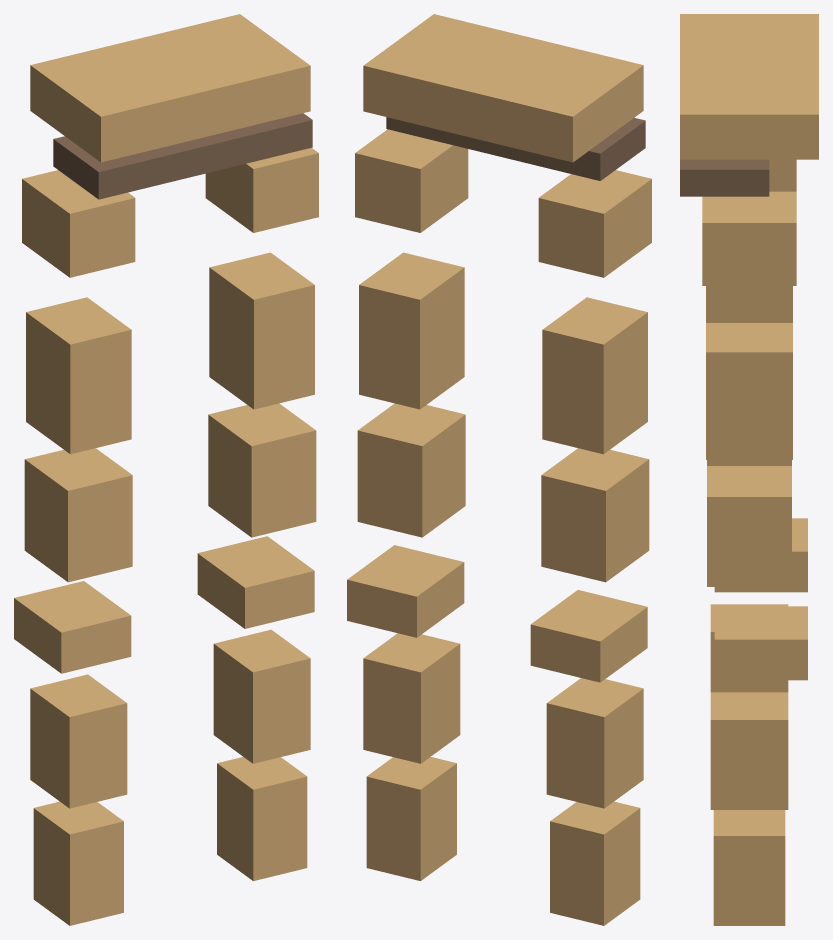
The model's file is equip_legs_bronze_platelegs.glb.
3 renders of one model, left to right at view 1: azimuth 30°, elevation 25°; view 2: azimuth 150°, elevation 25°; view 3: azimuth 270°, elevation 25°, orthographic.
Visible parts, largest first — view 1: equip_legs_bronze_platelegs; view 2: equip_legs_bronze_platelegs; view 3: equip_legs_bronze_platelegs.
Part boxes in pixels (x1,y1,x2,y2): equip_legs_bronze_platelegs: (14, 14, 318, 925); equip_legs_bronze_platelegs: (347, 14, 651, 925); equip_legs_bronze_platelegs: (680, 14, 818, 925).
Size of the model in its own units: 0.29 by 0.895 by 0.14.
